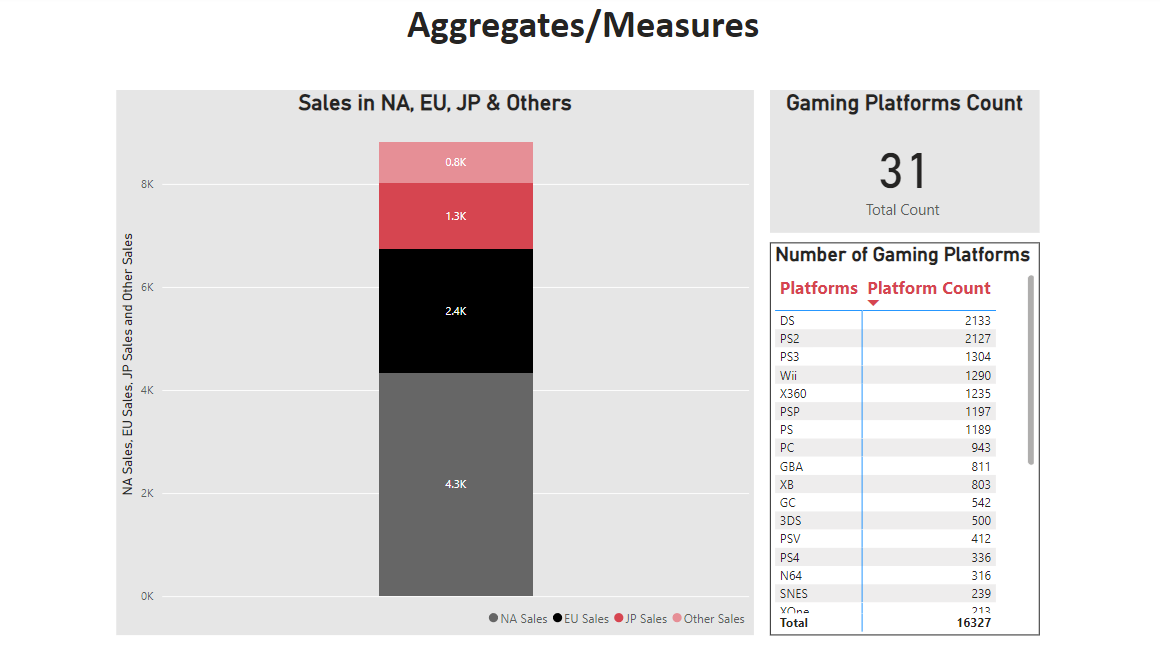

What the dashboard file says about the page in this screenshot:
{"tool":"powerbi","page":{"name":"Aggregates/Measures","canvas":[1280,720],"ordinal":2},"visuals":[{"type":"columnChart","title":"Sales in NA, EU, JP & Others","fields":{"Y":["Sum(vgsales.NA_Sales)","Sum(vgsales.EU_Sales)","Sum(vgsales.JP_Sales)","Sum(vgsales.Other_Sales)"]},"box":[127.1,104.3,700,598.6],"z":0},{"type":"pivotTable","title":"Number of Gaming Platforms","fields":{"Values":["vgsales.Platforms_Number"],"Rows":["vgsales.Platform"]},"box":[845.7,271.4,295.7,431.4],"z":1000},{"type":"card","title":"Gaming Platforms Count ","fields":{"Values":["vgsales.count_platforms"]},"box":[845.7,104.3,295.7,157.1],"z":2000},{"type":"textbox","box":[0,0,1280,64.3],"z":3000}]}

Visuals, with their boxes in screenshot pixels (x1, y1, x2, y2), scaled from the page's 1280x720 canvas onto the 1160x645 screenshot:
"Sales in NA, EU, JP & Others" columnChart: x1=115, y1=93, x2=750, y2=630
"Number of Gaming Platforms" pivotTable: x1=766, y1=243, x2=1034, y2=630
"Gaming Platforms Count " card: x1=766, y1=93, x2=1034, y2=234
textbox: x1=0, y1=0, x2=1159, y2=58
